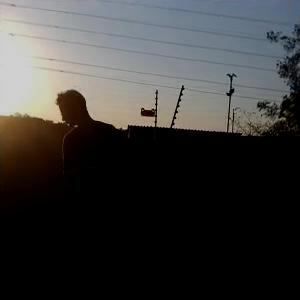follow: (52, 85, 132, 298)
